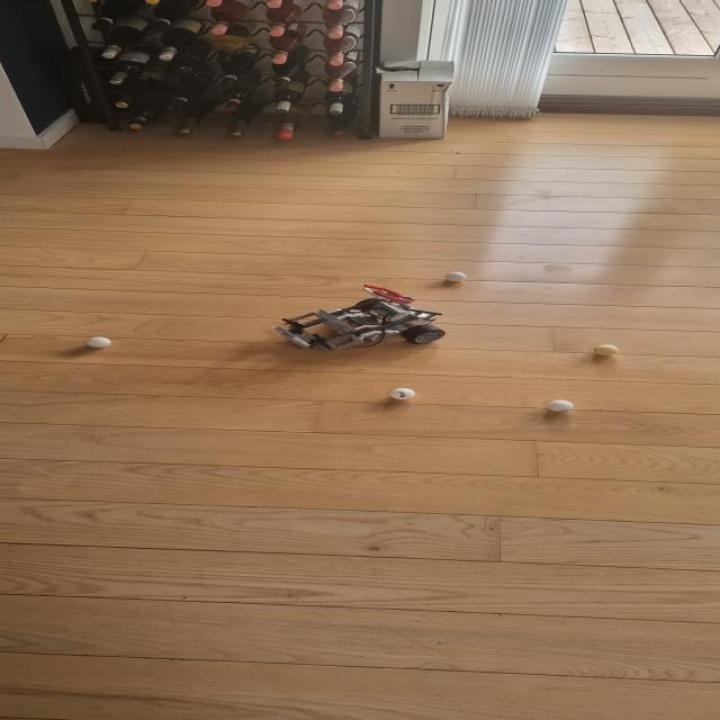robot: (269, 284, 446, 352)
white: (547, 400, 573, 412), (390, 388, 416, 400), (86, 336, 112, 347), (593, 345, 619, 356), (444, 272, 466, 282)
